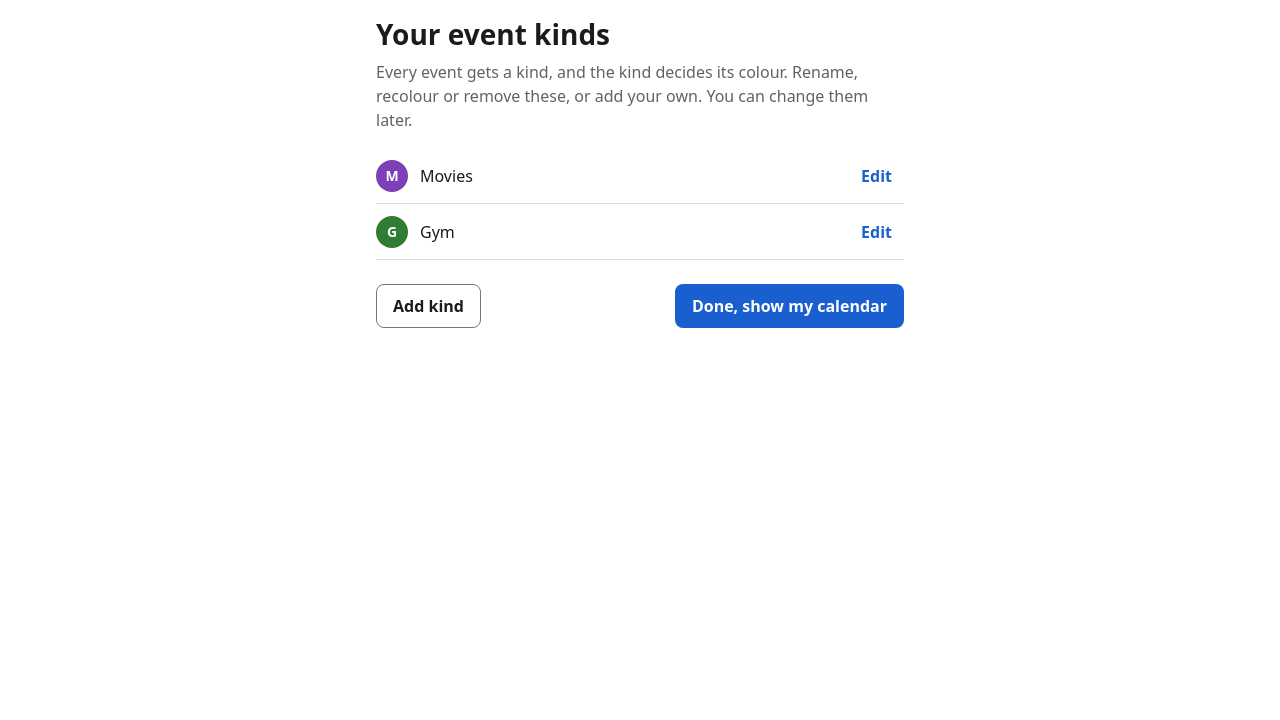
Scenario: edits made in the walkthrough reach the repository and the list (AC-2, AC-5, AC-6) › a confirmed delete soft-deletes the kind, its row disappears and the toast is shown (AC-5)
Click the button with aria-label "Edit Gym" at (877, 232), box [849,210,904,254]
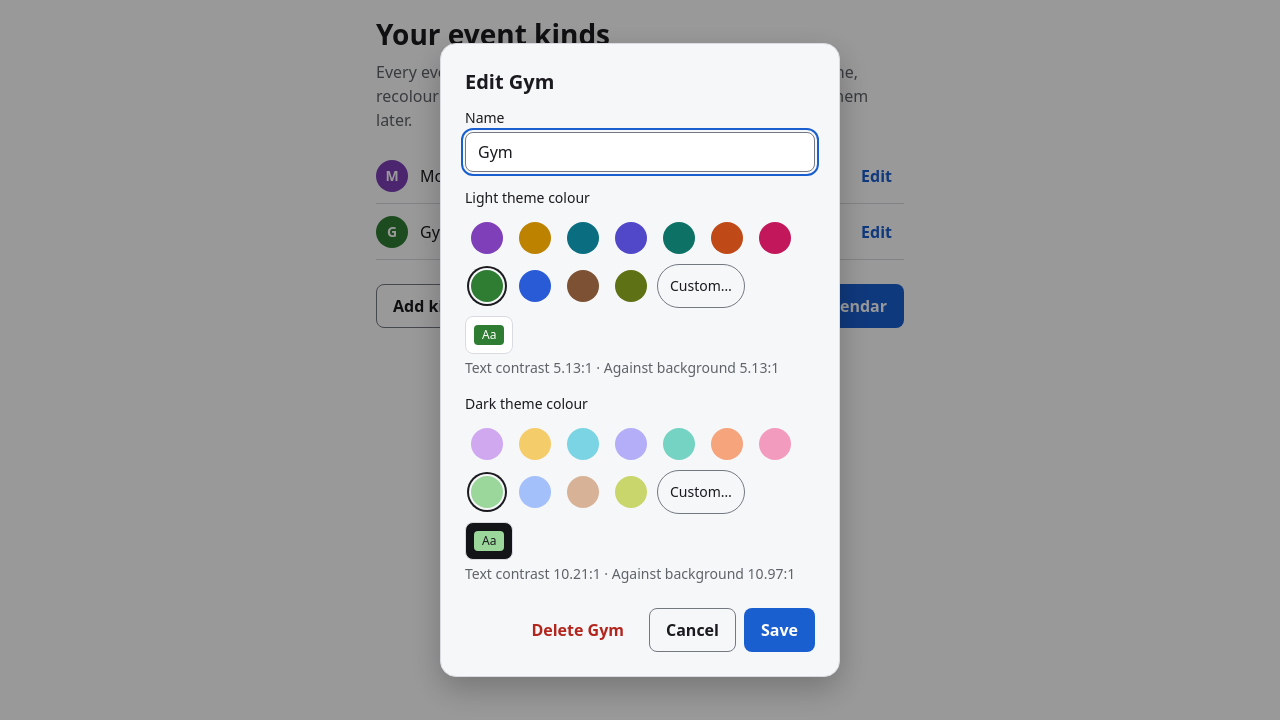
Click the button "Delete Gym" at (578, 630), box [514,608,641,652]
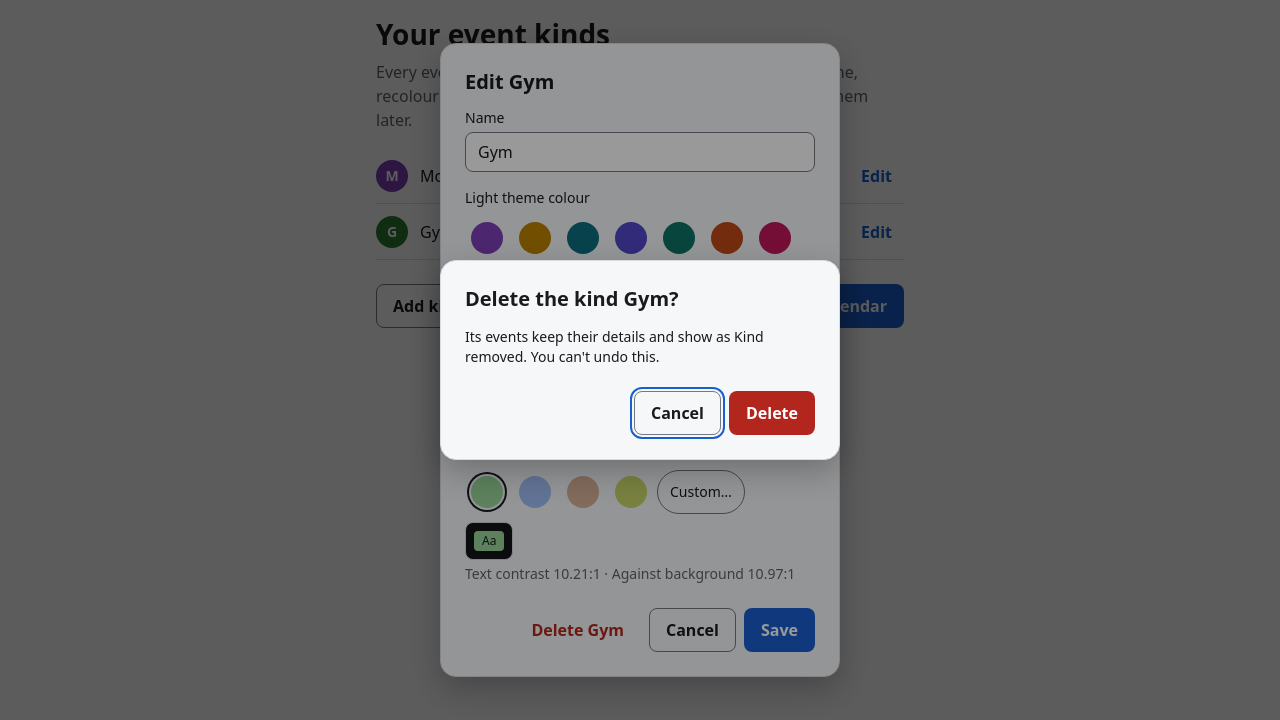
Click the button "Delete" at (772, 413), box [729,391,815,435]
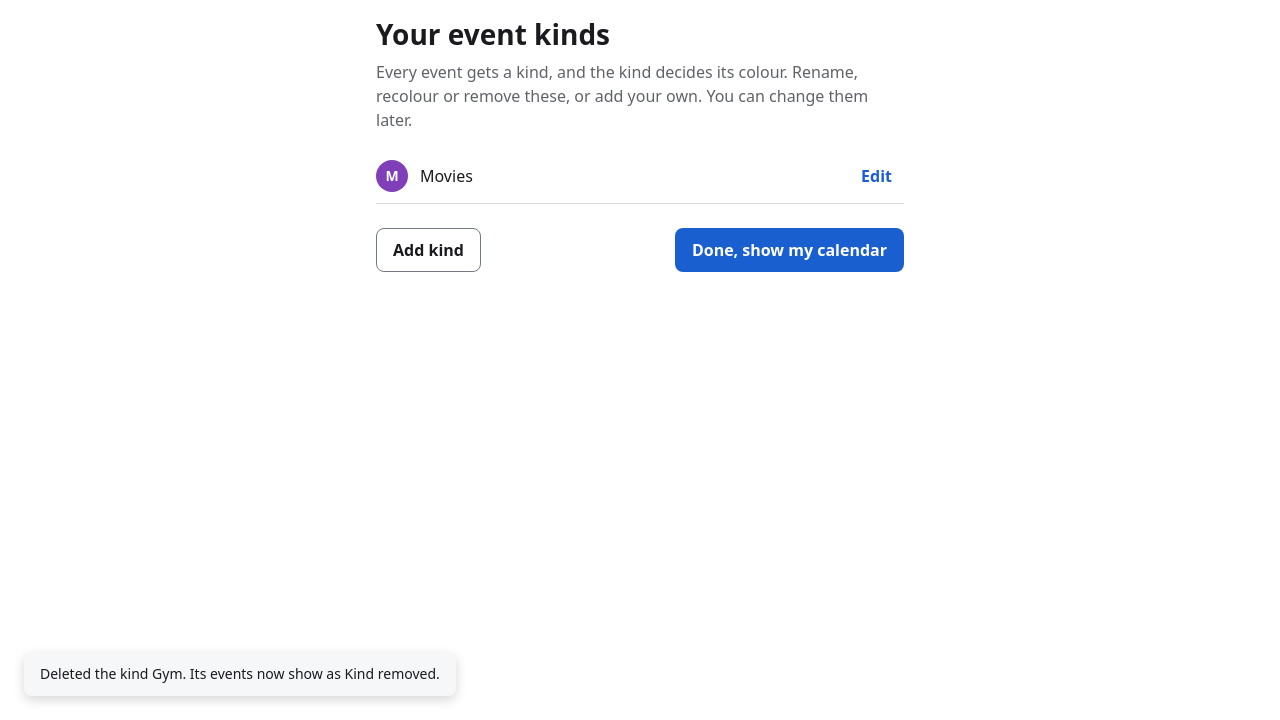
expect the text "Deleted the kind Gym. Its events now show as Kind removed." is shown: met, box [40,664,440,684]
expect the dialog is gone: met
